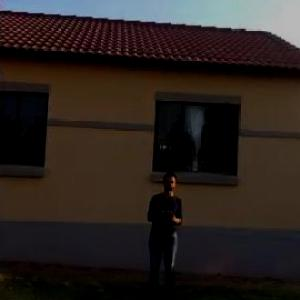follow: (139, 164, 185, 299)
